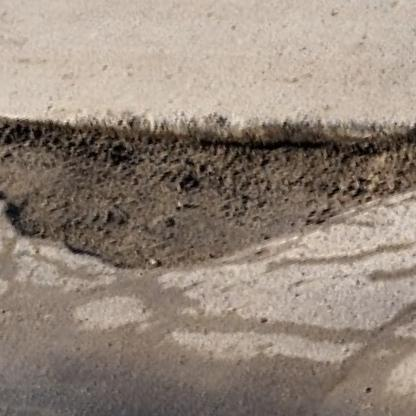pothole: (0, 0, 416, 341)
